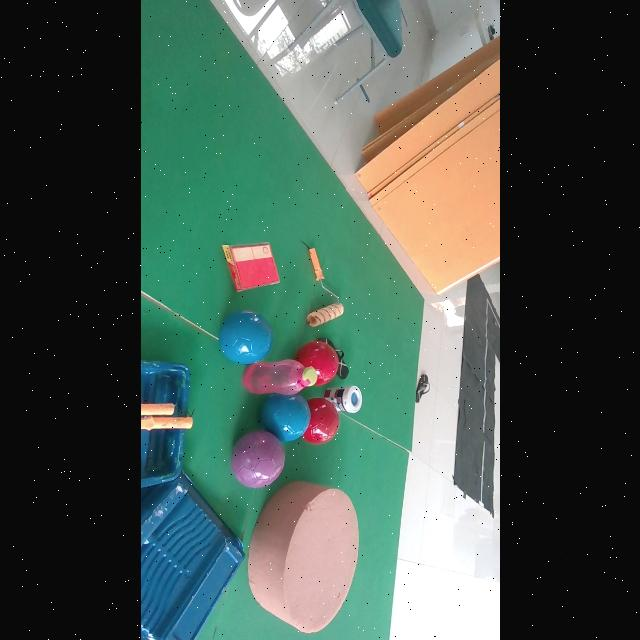B: (218, 310, 273, 364), (261, 394, 310, 442)
P: (231, 430, 285, 488)
R: (295, 341, 339, 386), (303, 398, 339, 445)
